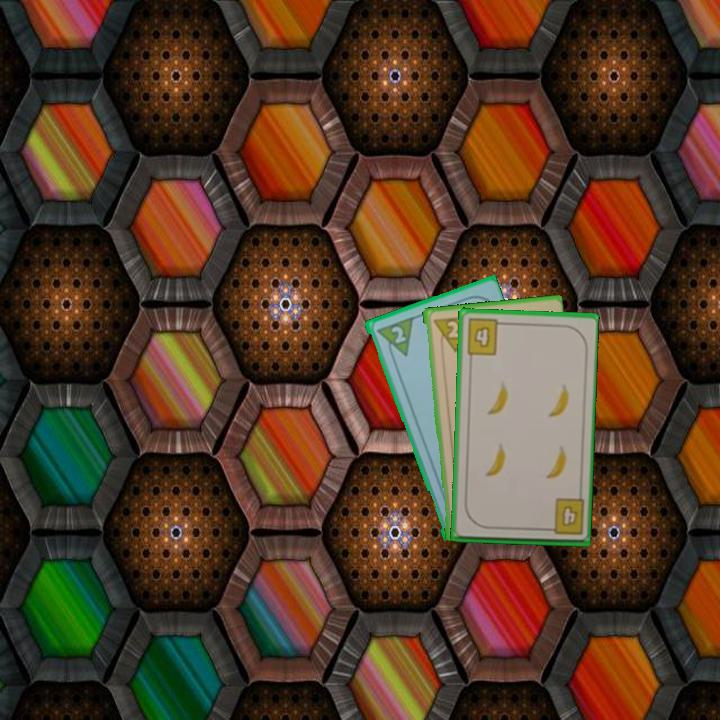2p: (429, 312, 473, 355), (387, 322, 408, 346)
4b: (541, 495, 586, 538), (463, 315, 507, 358)
